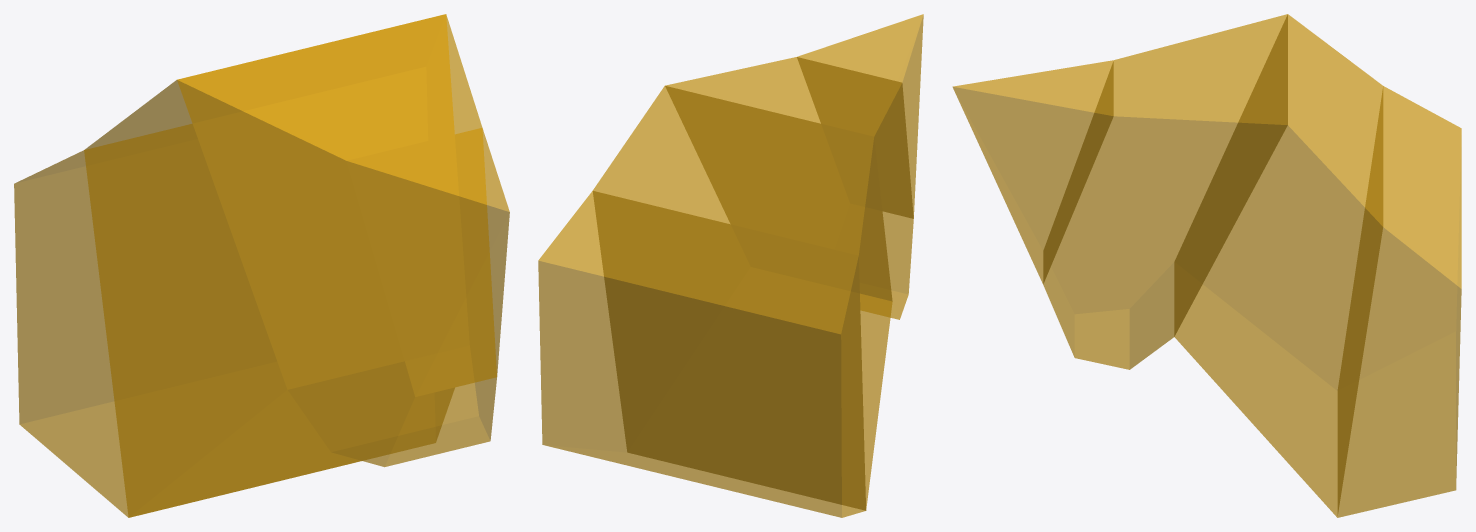
The model's file is SM_Veh_Ship_S_Figurehead_03_Collision.fbx.
3 views of the same model, side by side, from view 1: azimuth 30°, elevation 25°; view 2: azimuth 150°, elevation 25°; view 3: azimuth 270°, elevation 25° (orthographic). The views are drawn at different scales.
Parts seen in each view (by area): view 1: SM_Veh_Ship_S_Figurehead_03_Collision; view 2: SM_Veh_Ship_S_Figurehead_03_Collision; view 3: SM_Veh_Ship_S_Figurehead_03_Collision.
Boxes of the visible parts, <box> form: SM_Veh_Ship_S_Figurehead_03_Collision: <box>14,14,509,517</box>; SM_Veh_Ship_S_Figurehead_03_Collision: <box>538,14,923,517</box>; SM_Veh_Ship_S_Figurehead_03_Collision: <box>952,14,1461,517</box>.
Size of the model in its own units: 351 by 392 by 470.
